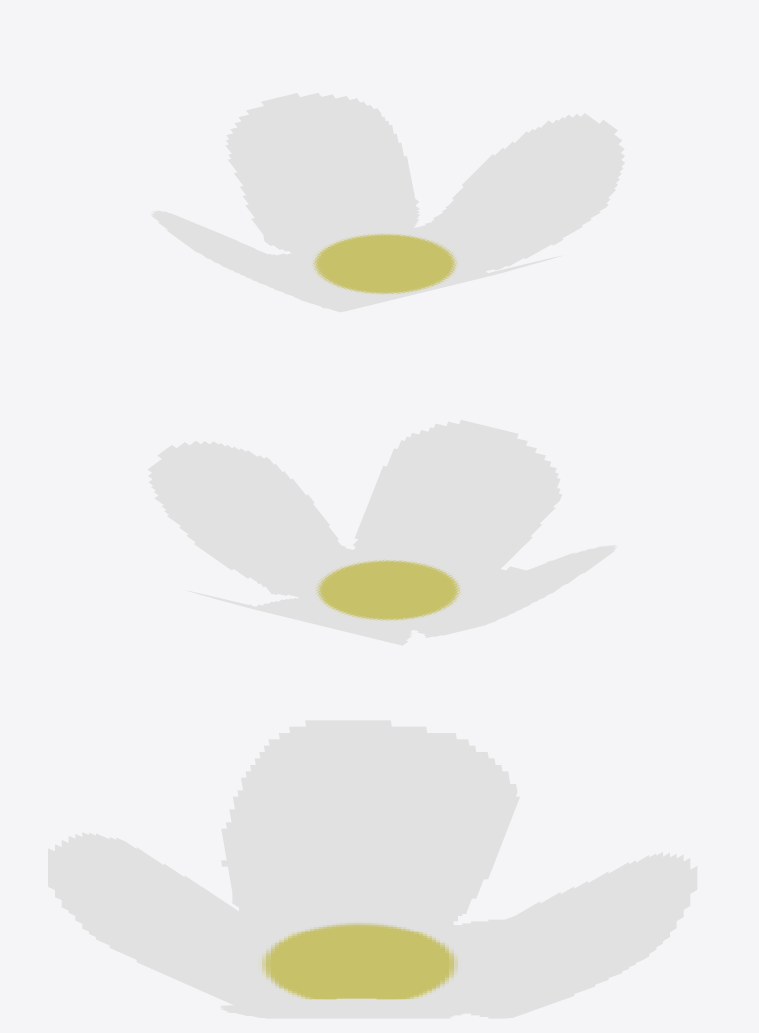
Rendered from flowers.glb.
The picture shows the model from 3 angles, top to bottom: view 1: azimuth 30°, elevation 25°; view 2: azimuth 150°, elevation 25°; view 3: azimuth 270°, elevation 25°; orthographic projection. The views are drawn at different scales.
Visible parts, largest first — view 1: flower; view 2: flower; view 3: flower.
Part boxes in pixels (box(x1,y1,x2,y2)): flower: box(150, 93, 624, 312); flower: box(147, 420, 617, 645); flower: box(48, 720, 697, 1018).
Bounding box in the file's own units: 0.3 × 0.0555 × 0.3.
1 material, 1 textured.
